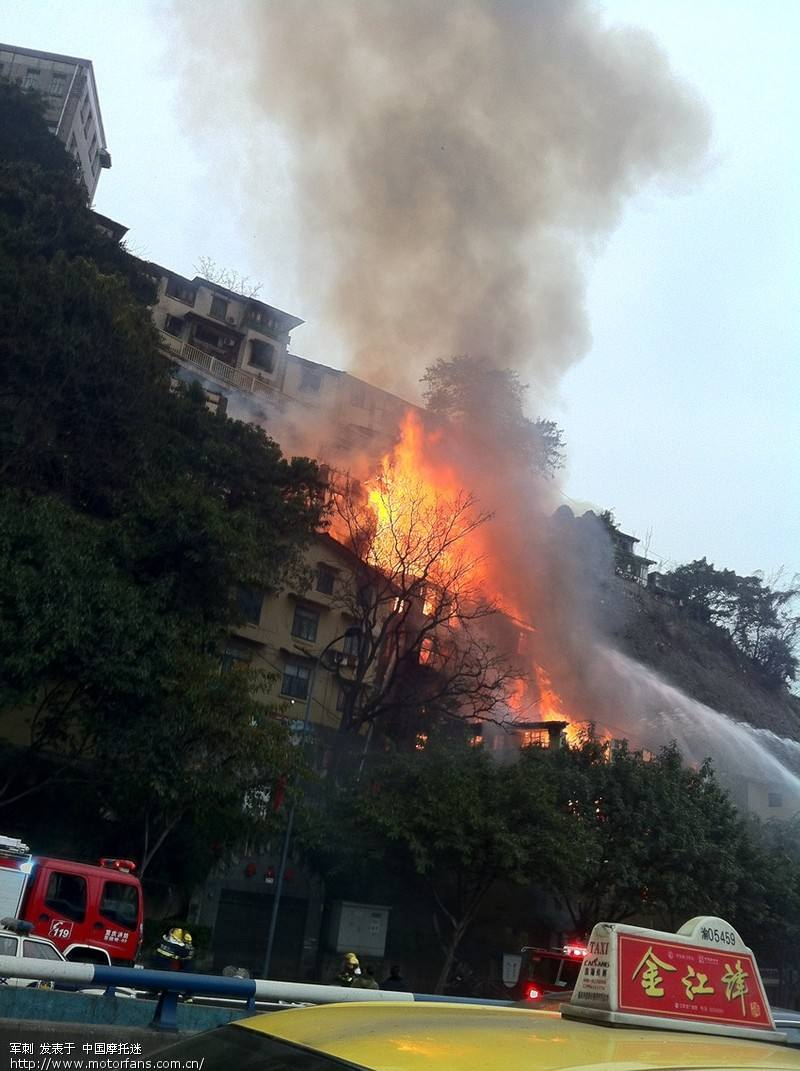fire: (324, 401, 619, 751)
